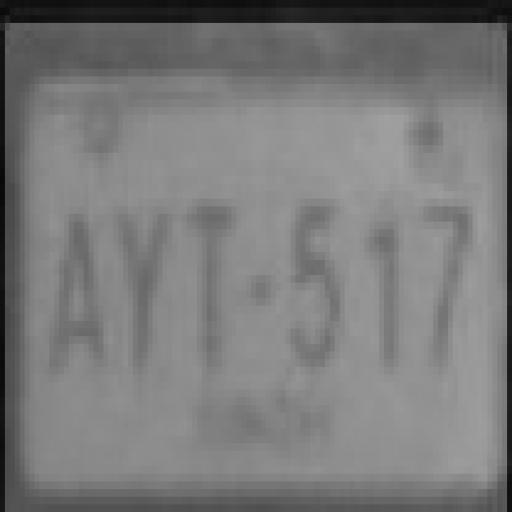1: (354, 174, 396, 375)
5: (281, 166, 344, 366)
7: (415, 159, 468, 354)
A: (42, 182, 100, 387)
T: (176, 155, 238, 379)
Y: (106, 163, 168, 376)
